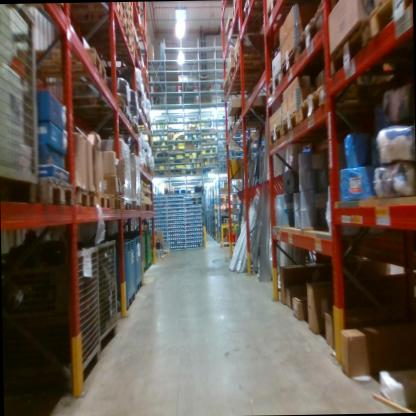pallet: (297, 82, 401, 129), (328, 22, 394, 80), (23, 44, 106, 87), (69, 28, 134, 66), (361, 0, 412, 40), (64, 3, 126, 33), (67, 89, 128, 117), (297, 10, 334, 54), (74, 106, 130, 132), (42, 178, 75, 216), (226, 66, 270, 90), (232, 45, 265, 69), (225, 119, 263, 139), (263, 2, 295, 25), (280, 107, 301, 138), (73, 183, 97, 210), (243, 0, 265, 26), (278, 47, 296, 77), (264, 67, 282, 96), (93, 188, 111, 215), (265, 127, 288, 147), (231, 0, 247, 25), (221, 83, 248, 95), (111, 191, 123, 214), (126, 26, 136, 50), (122, 191, 132, 214), (124, 11, 137, 28), (135, 22, 146, 42), (217, 240, 241, 249), (153, 249, 166, 264), (130, 121, 143, 136), (132, 199, 140, 214), (120, 4, 135, 12), (140, 199, 146, 213), (146, 162, 152, 174), (163, 247, 169, 258), (146, 202, 151, 213)
stillage: (0, 7, 43, 201), (51, 241, 101, 403), (92, 237, 122, 343)
